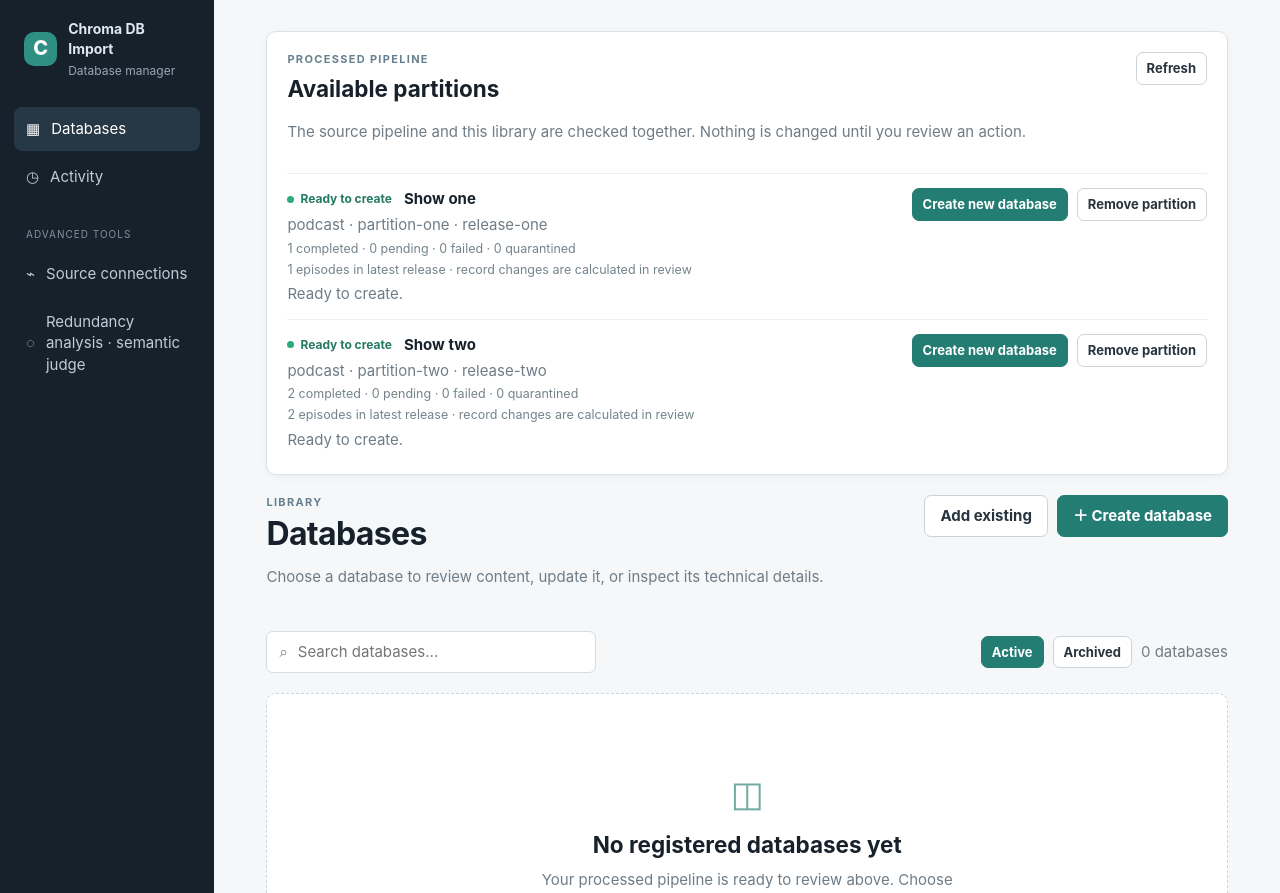
Test: modern database creation flow › gives each ready partition its own populated create entry point
Expected: the heading "Available partitions" is shown, [287,75,499,102]
Expected: the button with aria-label "Create database for Show one" is shown, [912,188,1068,221]
Click the button with aria-label "Create database for Show two": x=990, y=350 [912,334,1068,367]
(page scrolled)
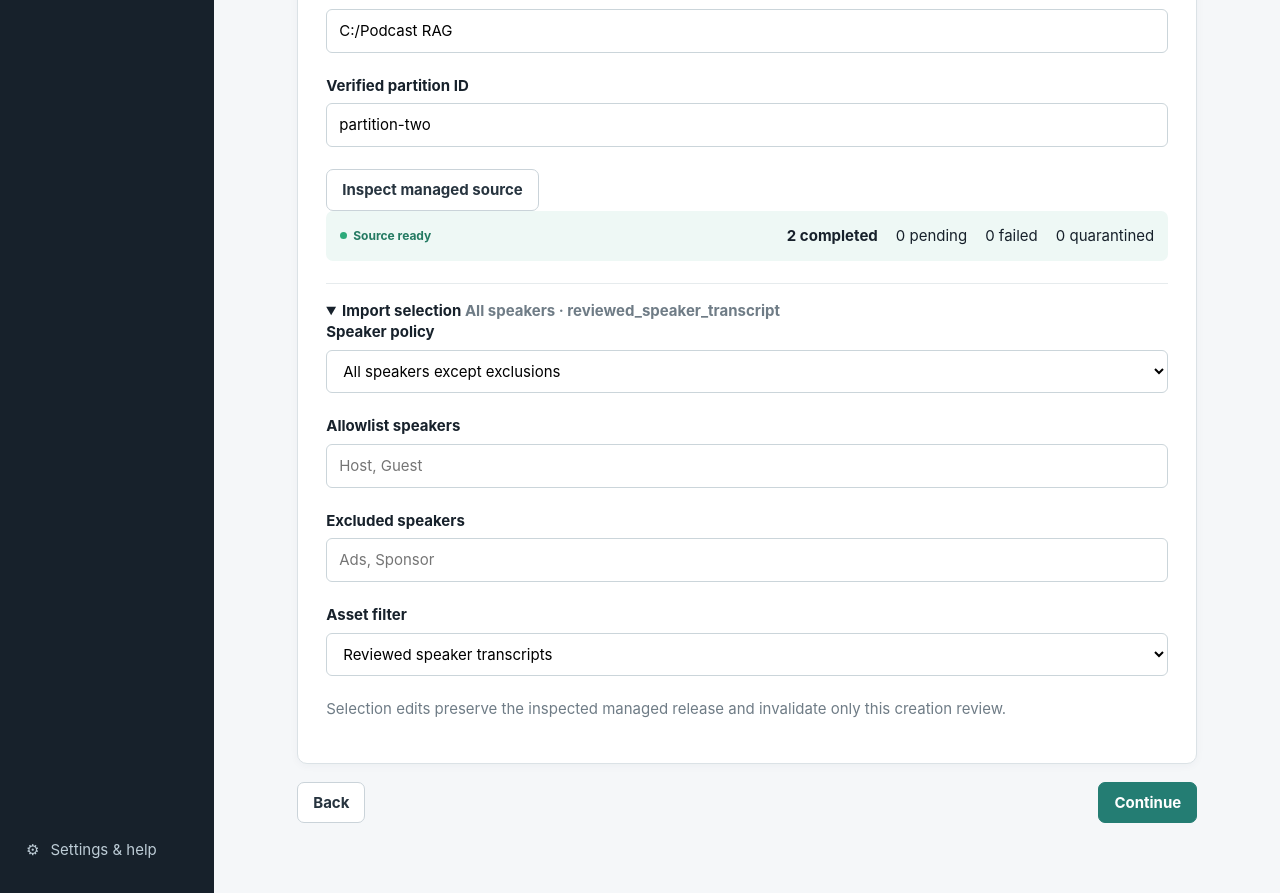
Click the button "Continue": x=1148, y=802 [1098,782,1197,823]
(page scrolled)
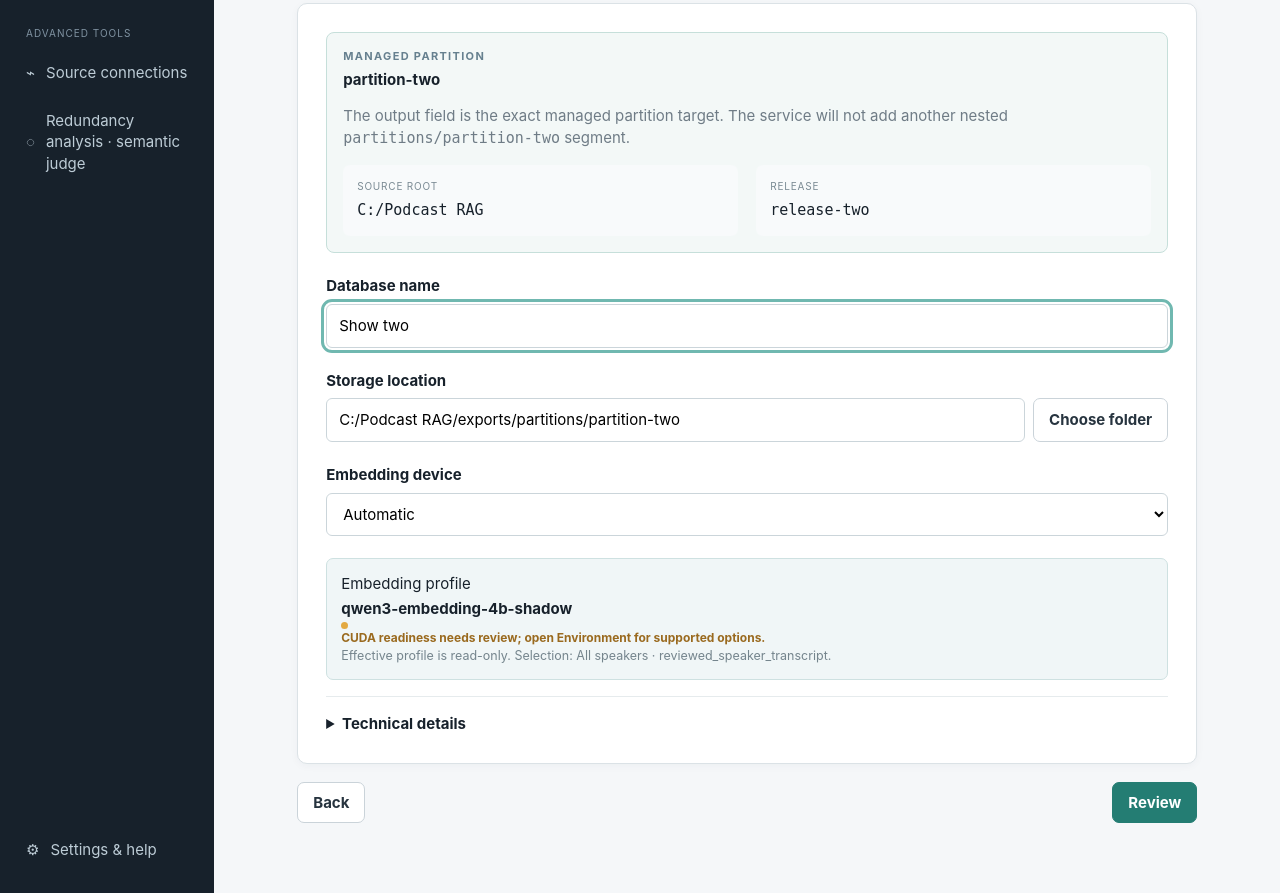
Expected: the field showing "Show two" is shown, [326,304,1168,348]
Expected: the field showing "C:/Podcast RAG/exports/partitions/partition-two" is shown, [326,398,1025,442]
